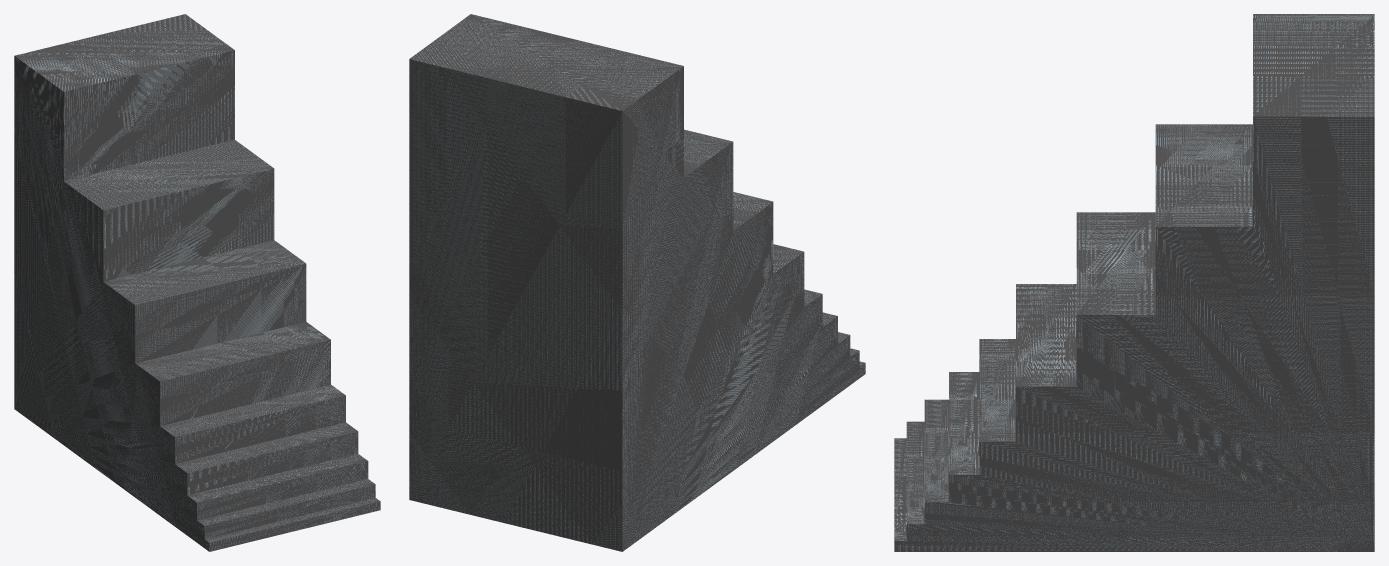
Rendered from StepsDemo.fbx.
3 renders of one model, left to right at view 1: azimuth 30°, elevation 25°; view 2: azimuth 150°, elevation 25°; view 3: azimuth 270°, elevation 25°, orthographic. The views are drawn at different scales.
Parts seen in each view (by area): view 1: Model; view 2: Model; view 3: Model.
Part boxes in pixels (bbox=[...]): Model: bbox=[14, 14, 380, 551]; Model: bbox=[409, 14, 865, 551]; Model: bbox=[894, 14, 1374, 551].
Bounding box in the file's own units: 2 × 3.95 × 3.95.
